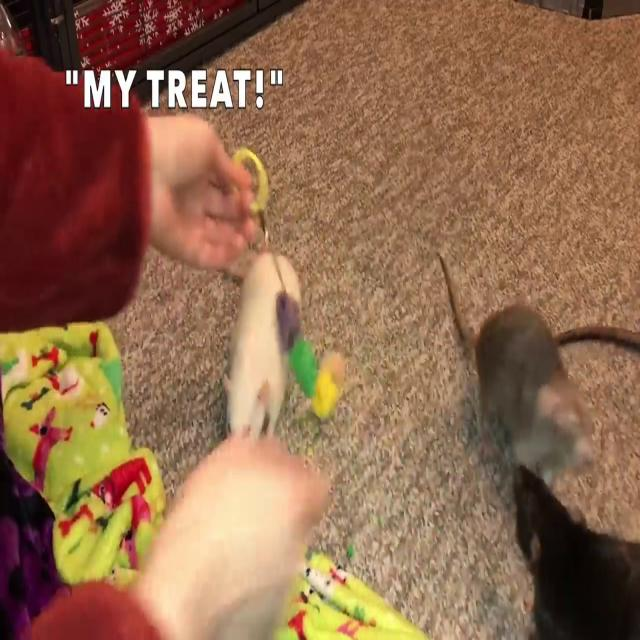rat: (469, 290, 602, 490), (224, 280, 305, 438)
